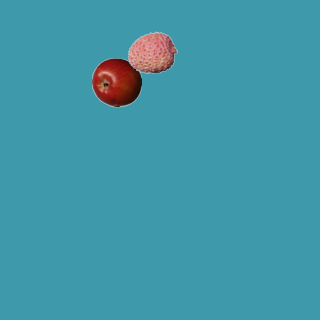Apple Braeburn: (91, 57, 141, 107)
Lychee: (127, 27, 177, 77)
